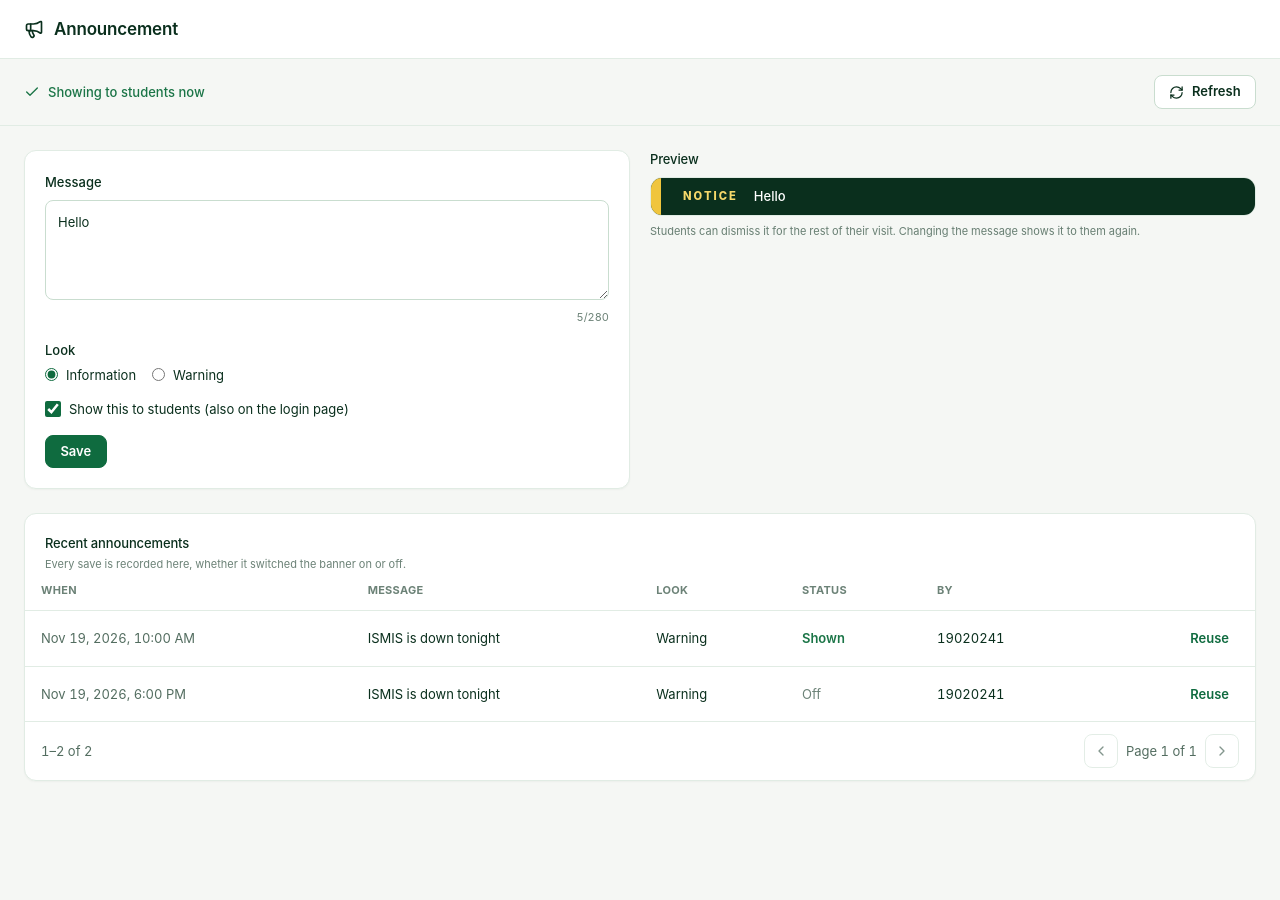
it: Announcement history › reuses an old announcement by loading it into the form
The image size is (1280, 900).
What coordinates should you click on to do the following:
click the button with aria-label "reuse announcement"
I would click on:
 (1210, 638)
Its box is [1180,623,1239,654].
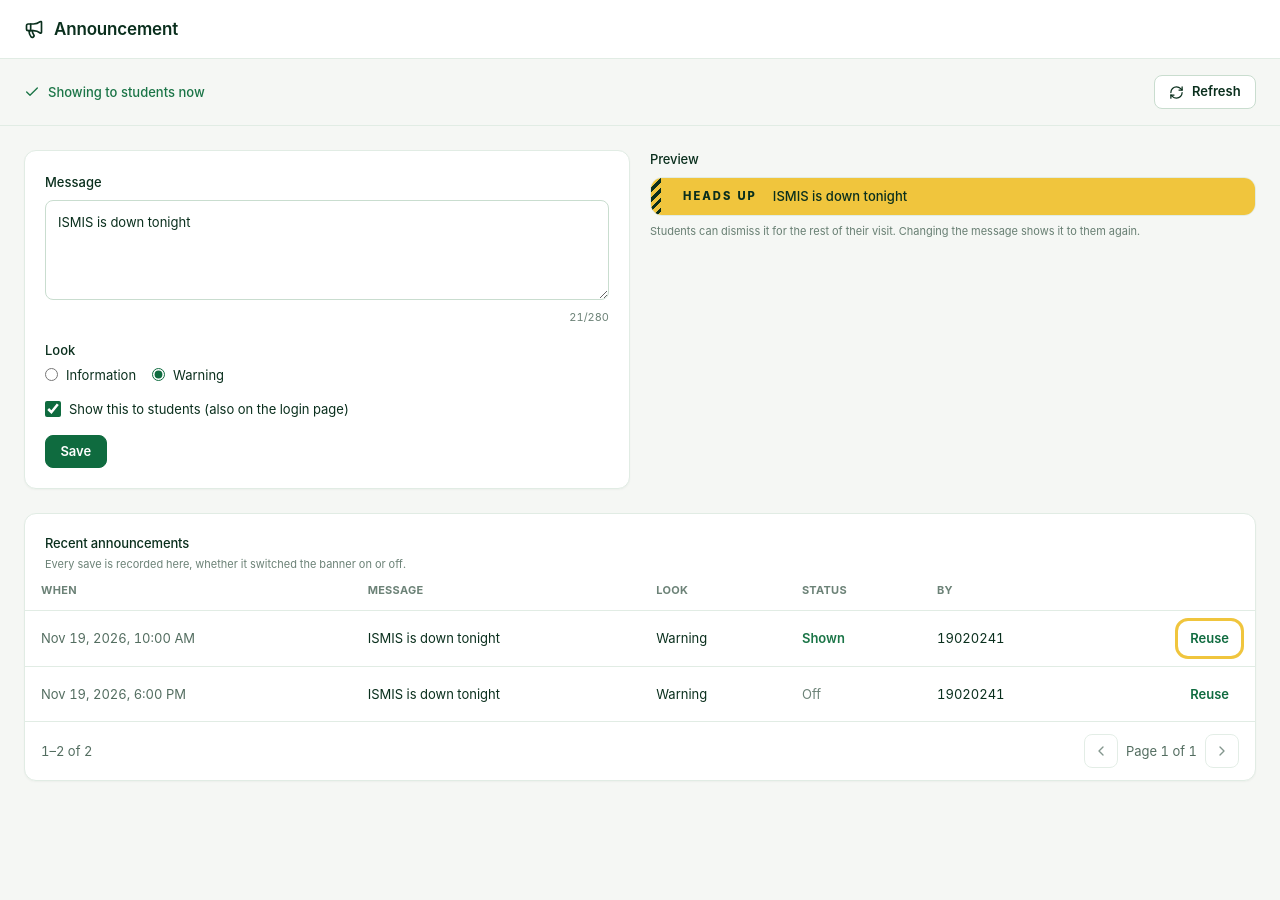
Expected: the text box labelled "Message" holds "ISMIS is down tonight", [45,200,609,300]
Expected: the radio button labelled "Warning" is checked, [152,368,165,381]
